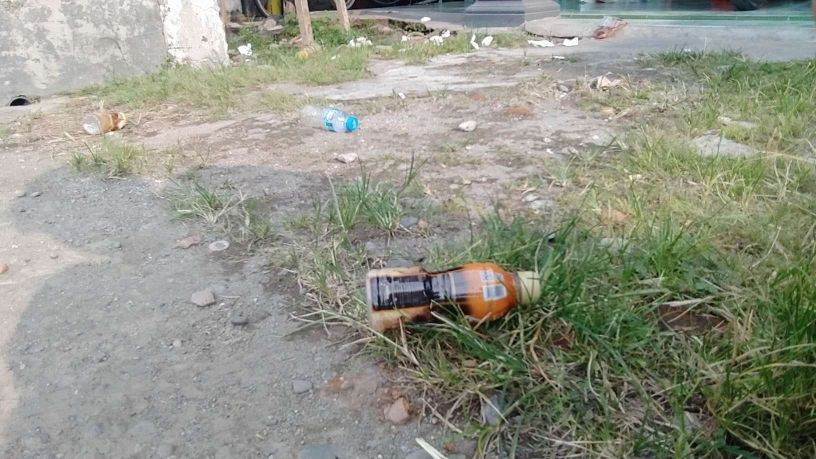botol: (341, 253, 563, 321), (289, 95, 364, 136), (72, 105, 138, 144)
